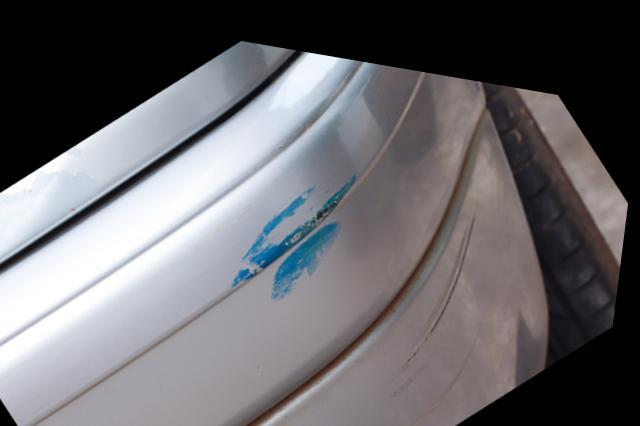dent: (0, 153, 67, 260)
scratch: (395, 191, 506, 405), (235, 156, 375, 293)
